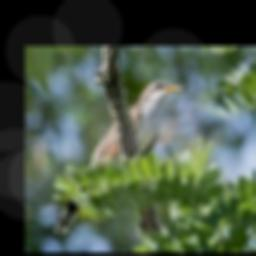Cuckoo: (55, 82, 185, 236)
